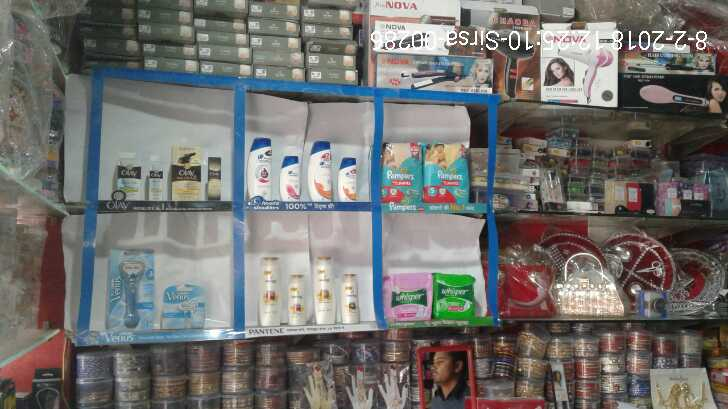venus: (111, 249, 154, 330), (160, 284, 206, 331)
